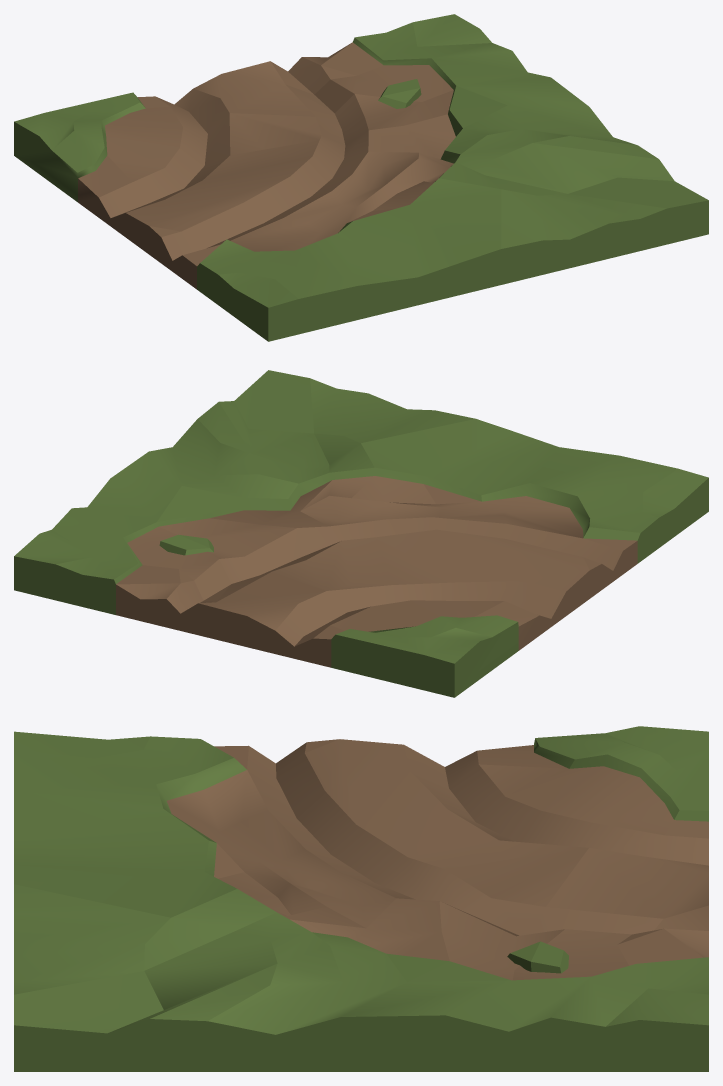
File: Ground_Road_Turn_RB.glb
3 views of the same model, one above another, from view 1: azimuth 30°, elevation 25°; view 2: azimuth 150°, elevation 25°; view 3: azimuth 270°, elevation 25° (orthographic). The views are drawn at different scales.
Parts seen in each view (by area): view 1: Ground_Road_Turn_RB; view 2: Ground_Road_Turn_RB; view 3: Ground_Road_Turn_RB.
Boxes of the visible parts, <box> form: Ground_Road_Turn_RB: <box>14,14,708,341</box>; Ground_Road_Turn_RB: <box>14,370,708,697</box>; Ground_Road_Turn_RB: <box>14,726,708,1071</box>.
Bounding box in the file's own units: 1.47 × 0.1345 × 1.47.
